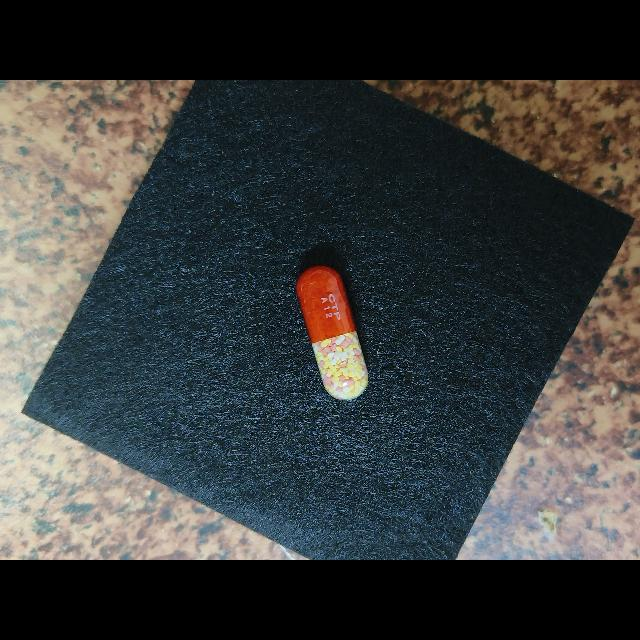Intact Capsule: (296, 266, 368, 400)
